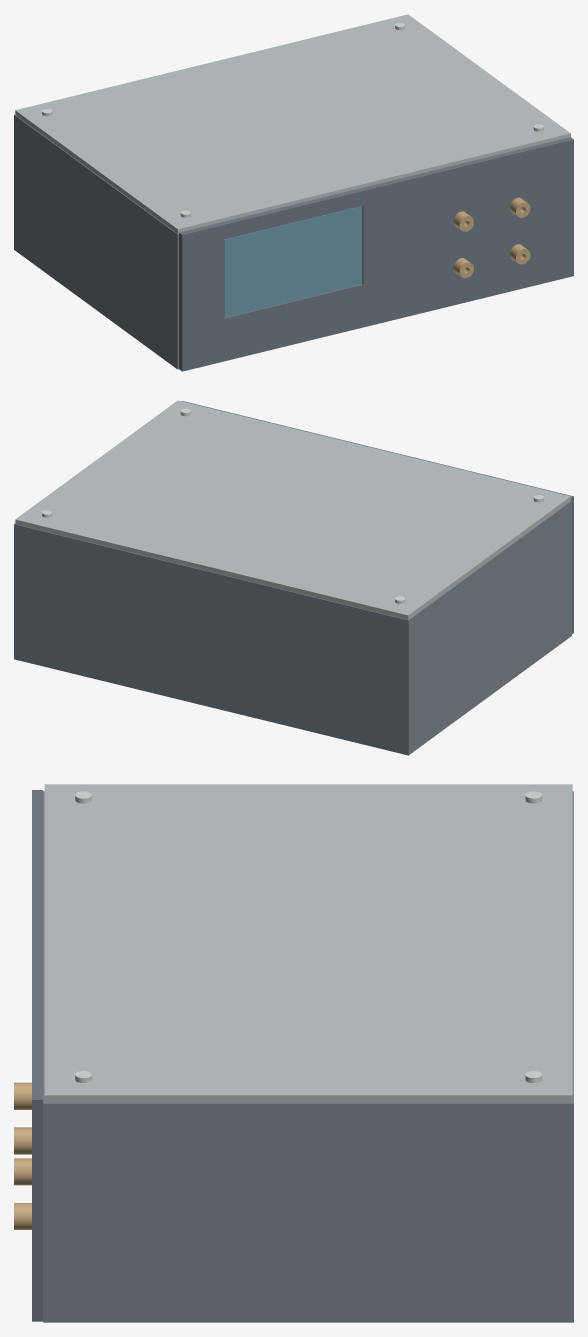
File: assembly.glb
3 views of the same model, one above another, from view 1: azimuth 30°, elevation 25°; view 2: azimuth 150°, elevation 25°; view 3: azimuth 270°, elevation 25° (orthographic). The views are drawn at different scales.
Parts seen in each view (by area): view 1: ET-002:1, ET-003:1, ET-001:1, ET-004:1; view 2: ET-001:1, ET-002:1, ET-003:1; view 3: ET-002:1, ET-001:1, ET-003:1.
Boxes of the visible parts, left/top/right/bottom form: ET-002:1: left=15, top=14, right=570, bottom=233; ET-003:1: left=179, top=137, right=573, bottom=371; ET-001:1: left=14, top=114, right=464, bottom=369; ET-004:1: left=224, top=206, right=362, bottom=317; ET-001:1: left=14, top=500, right=571, bottom=755; ET-002:1: left=15, top=400, right=570, bottom=619; ET-003:1: left=182, top=401, right=573, bottom=633; ET-002:1: left=44, top=784, right=572, bottom=1102; ET-001:1: left=43, top=791, right=573, bottom=1322; ET-003:1: left=32, top=790, right=43, bottom=1321.
Bounding box in the file's own units: 0.266 × 0.092 × 0.2015.
